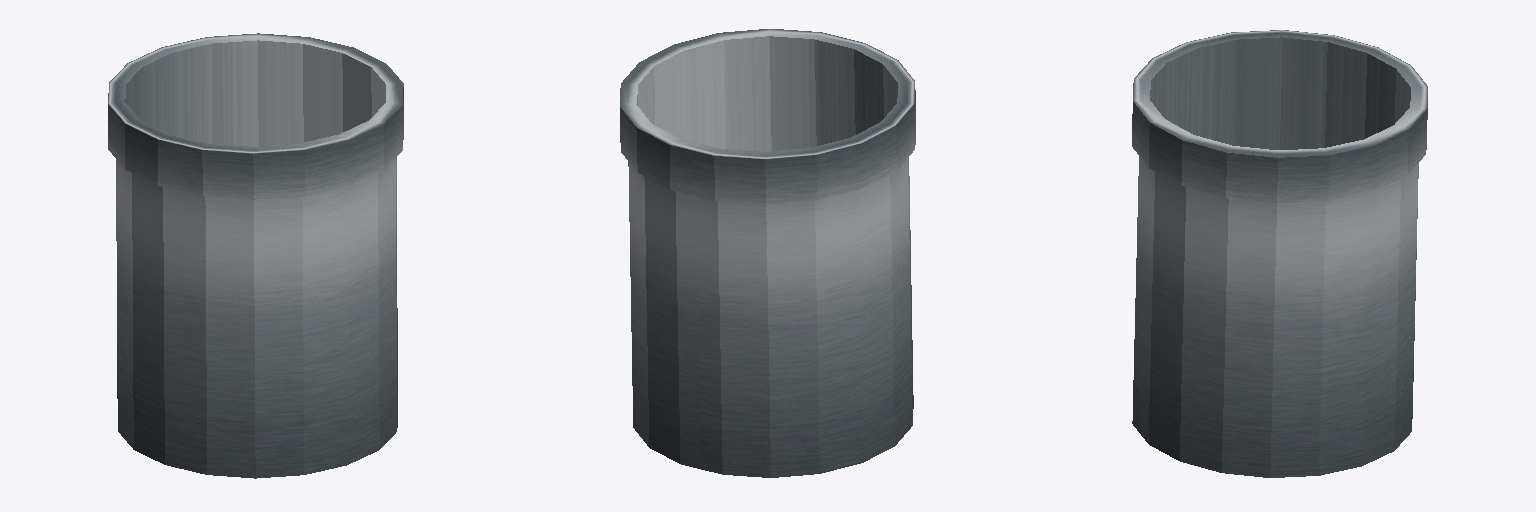
3 renders of one model, left to right at view 1: azimuth 30°, elevation 25°; view 2: azimuth 150°, elevation 25°; view 3: azimuth 270°, elevation 25°, orthographic.
Visible parts, largest first — view 1: Dust; view 2: Dust; view 3: Dust.
Part boxes in pixels (bbox=[...]): Dust: bbox=[108, 33, 403, 478]; Dust: bbox=[620, 29, 915, 477]; Dust: bbox=[1132, 30, 1427, 477].
Bounding box in the file's own units: 23.12 × 28.14 × 22.89.
Materials: 1 (1 with a texture image).